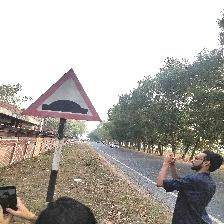Speed-breaker: (23, 70, 100, 121)
